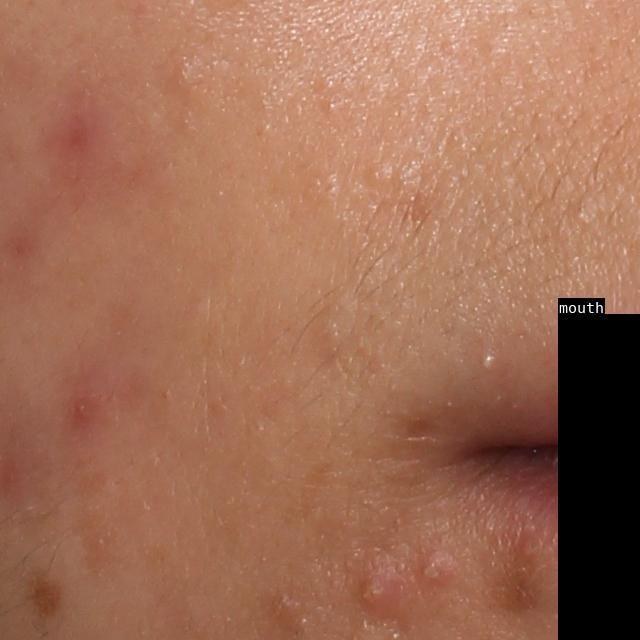comedo: (362, 159, 391, 192)
papule: (420, 554, 451, 587)
pustule: (480, 351, 499, 375)
